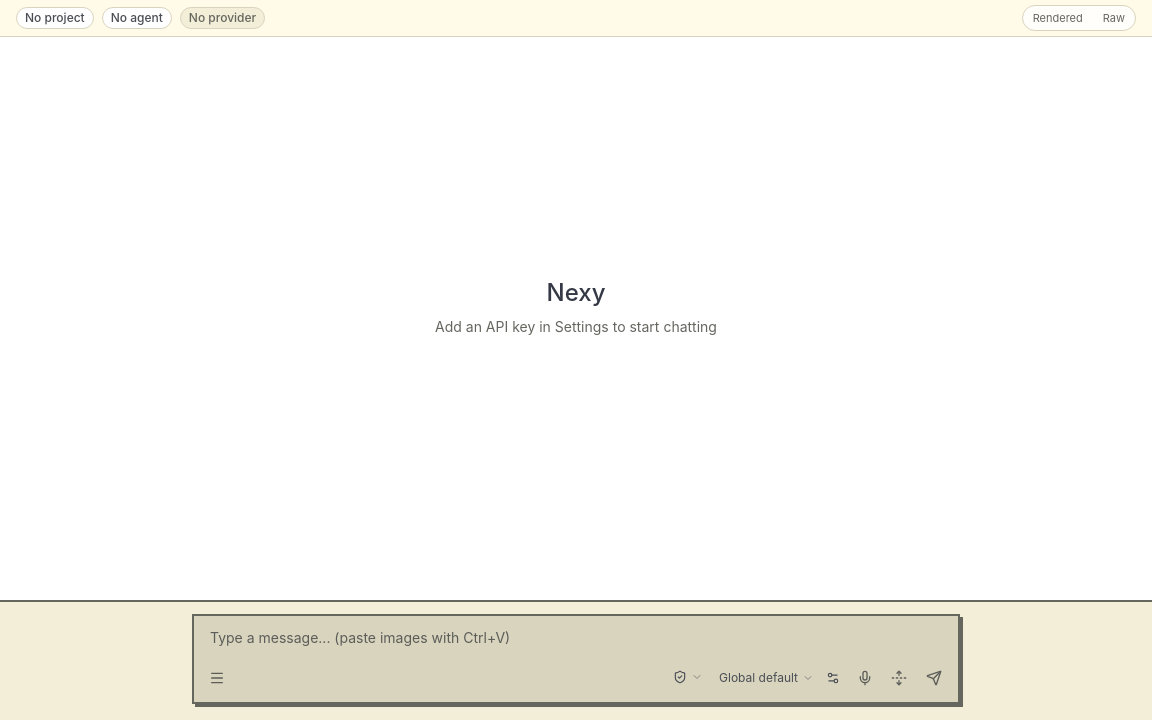
ChatWindow — Slash Commands › executes /help locally and does not send to API
Type "/help" into the text box named "message input" at [576, 636], box x1=194 y1=616 x2=958 y2=656
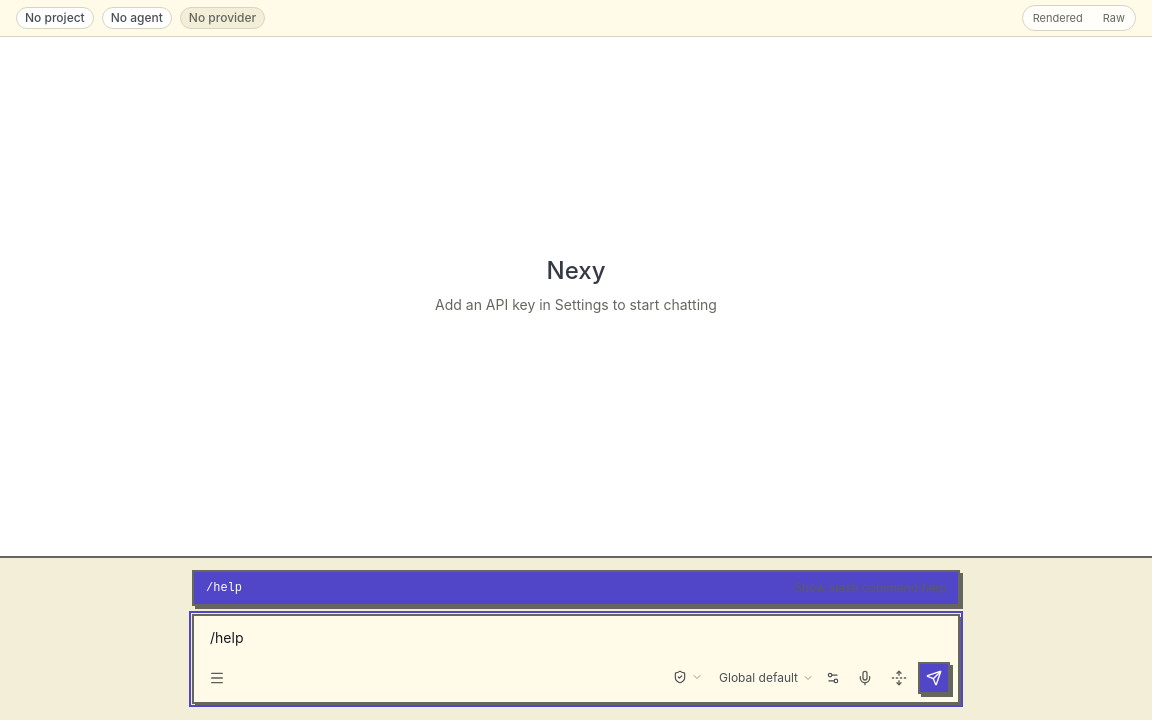
Click the button named "Send message" at [934, 678], box x1=918 y1=662 x2=950 y2=694
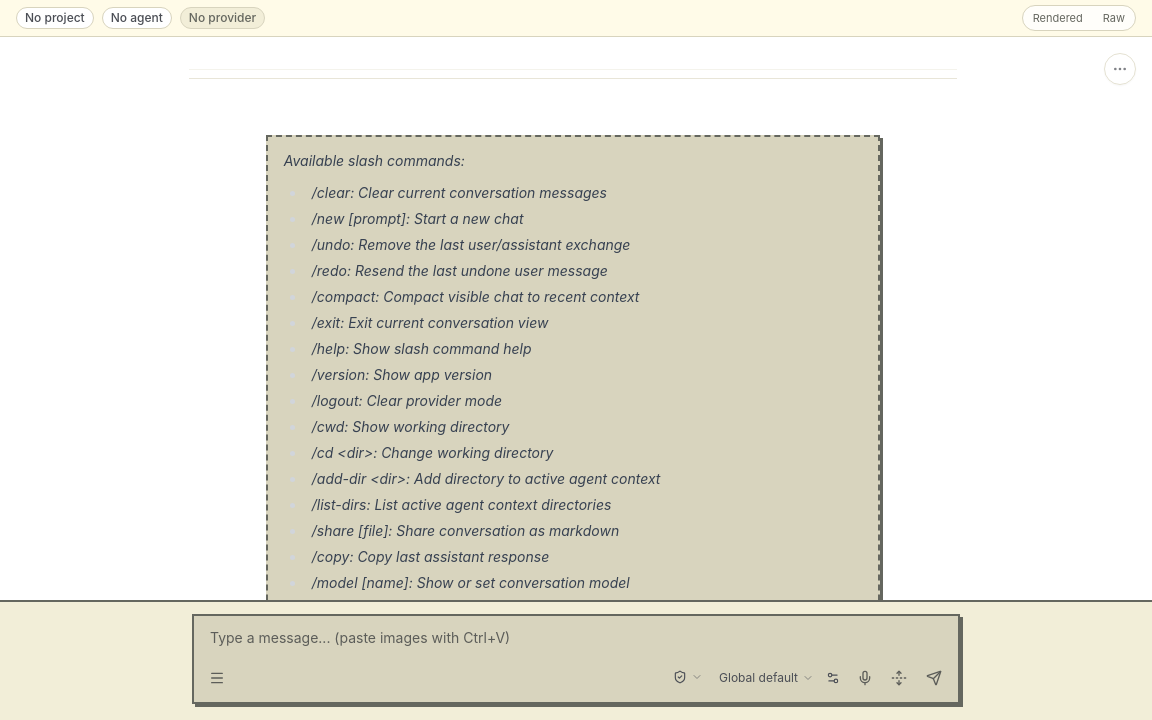
Check: the text "Available slash commands:" is shown, box x1=284 y1=152 x2=465 y2=169
